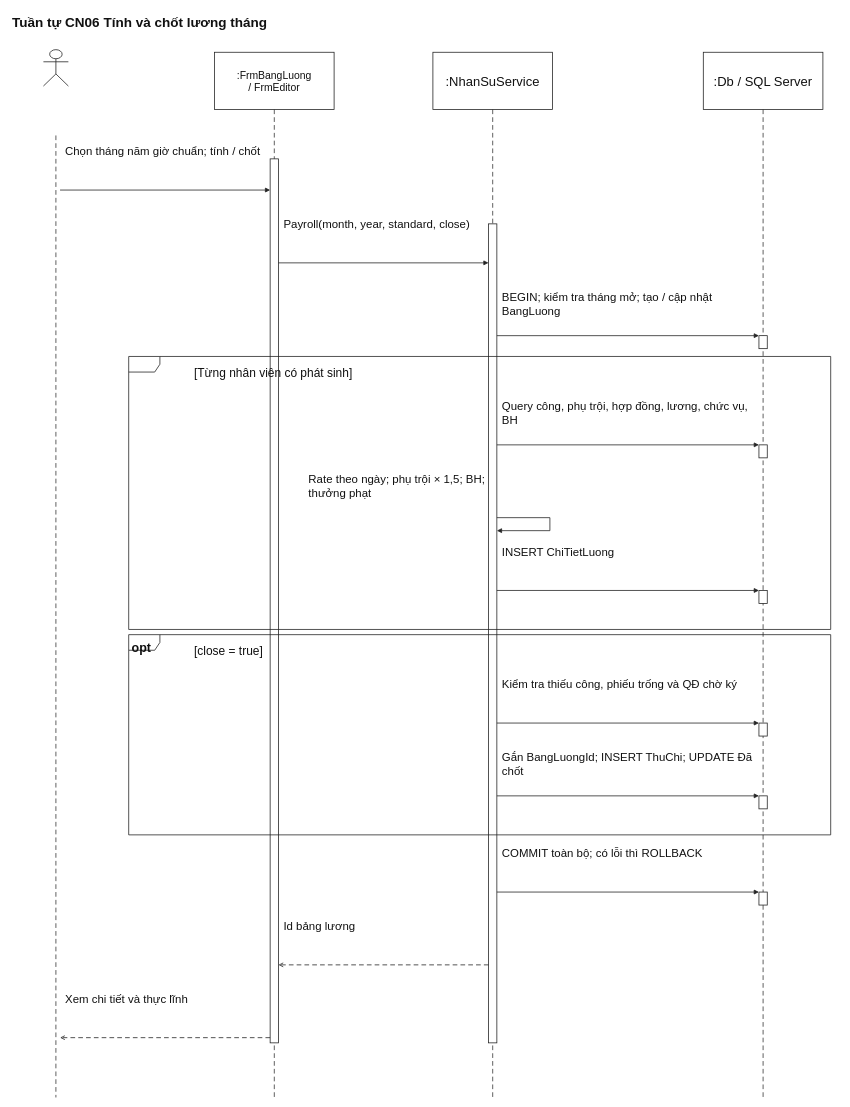
Image size: 850x1107. Some labels were removed from this diagram. The shapes that lost their labels are listed below. From the top down, each one's box as (x1, y1, x2, y2) in pixels, then its label:
(43, 49, 69, 86): Kế toán
(128, 356, 831, 630): loop
